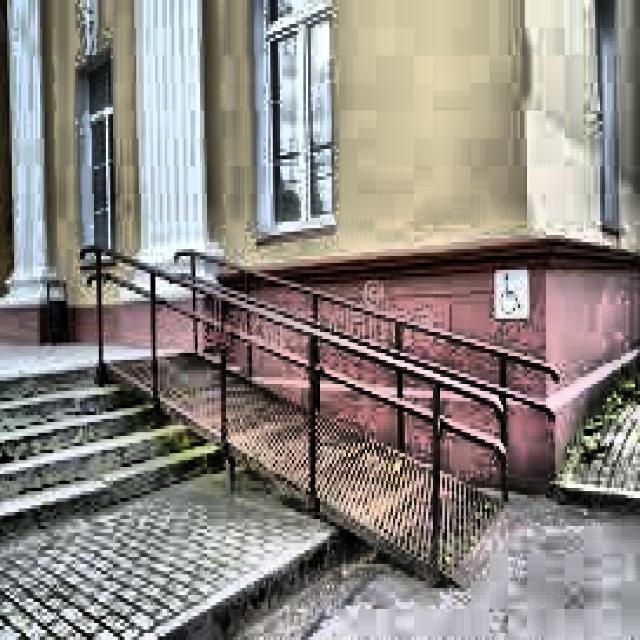escada: (0, 365, 221, 545)
